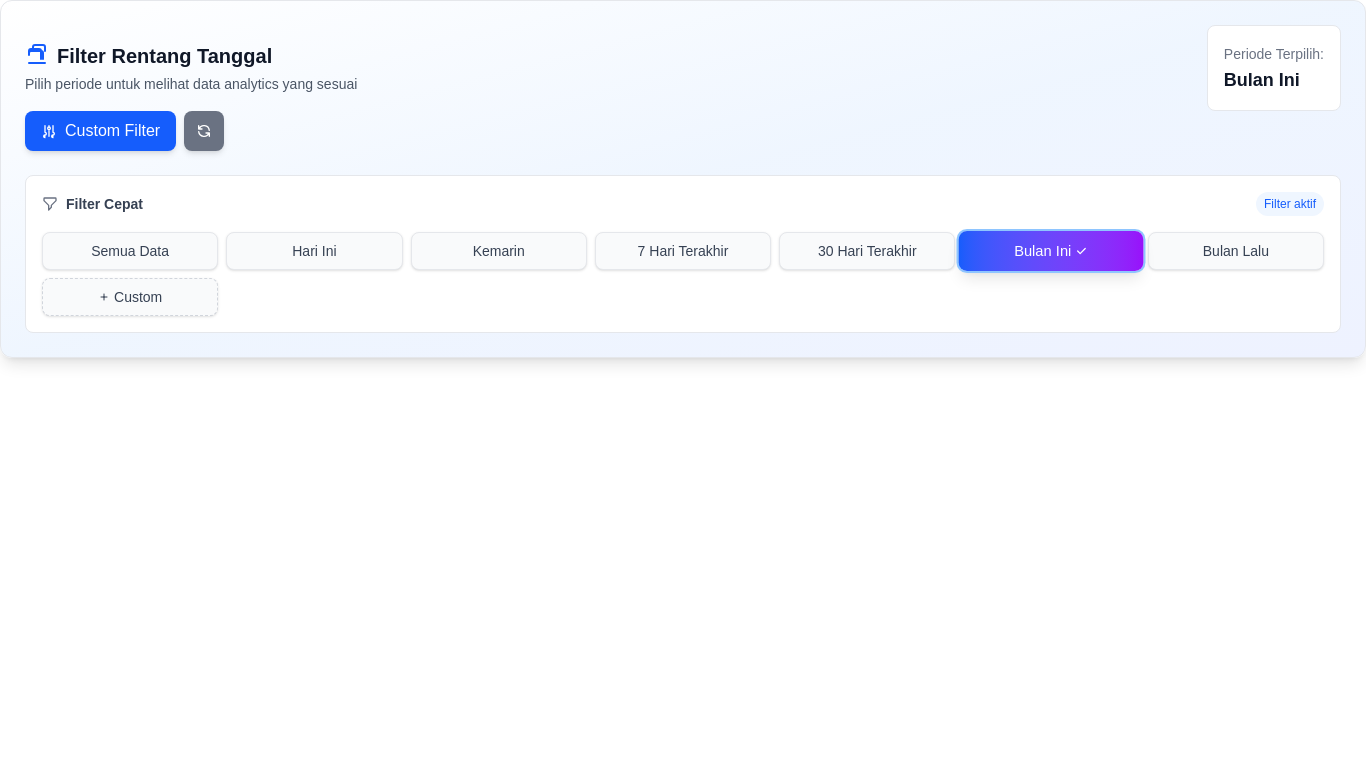
Test: DateRangeFilter Component › opens custom date picker when Custom button is clicked
Click the button "Custom": [130, 297] box [42,278,218,316]
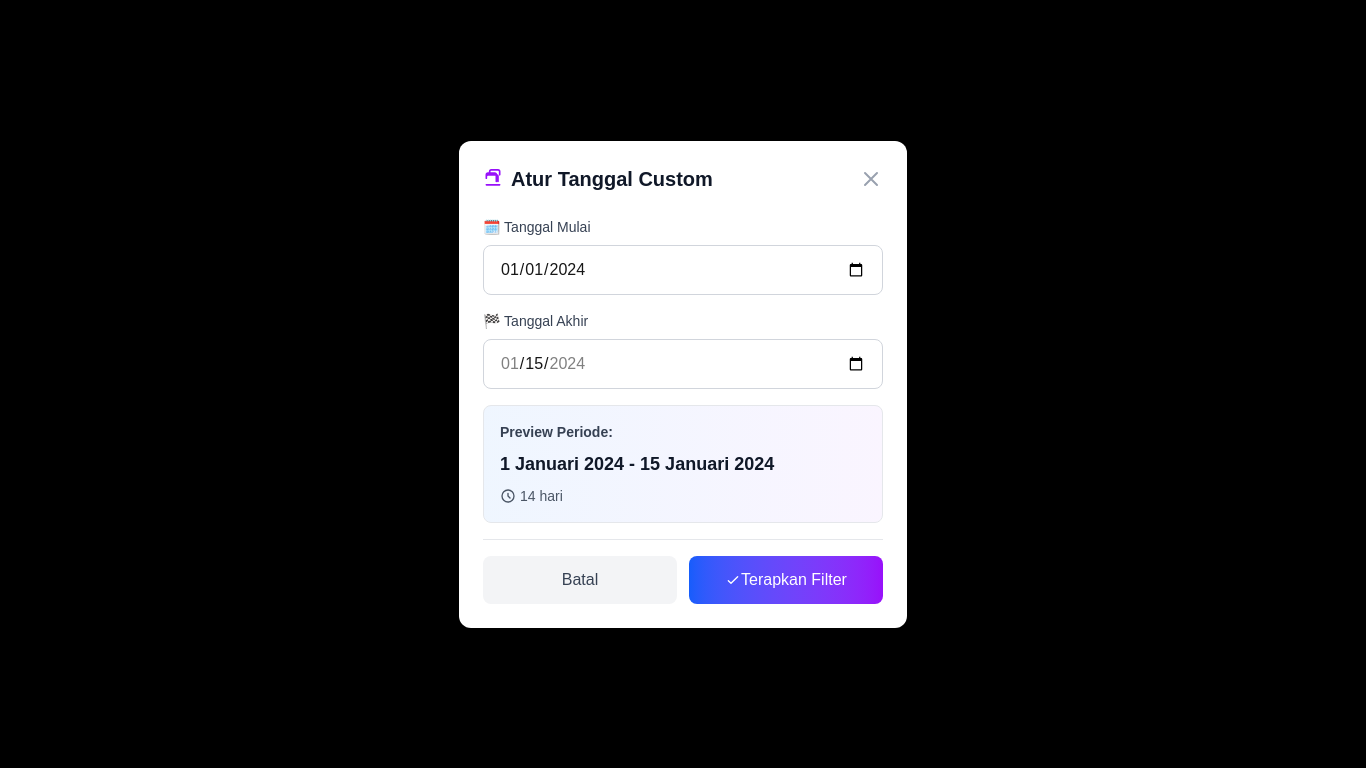
Result: the text "Atur Tanggal Custom" is shown at [511,164,713,192]
